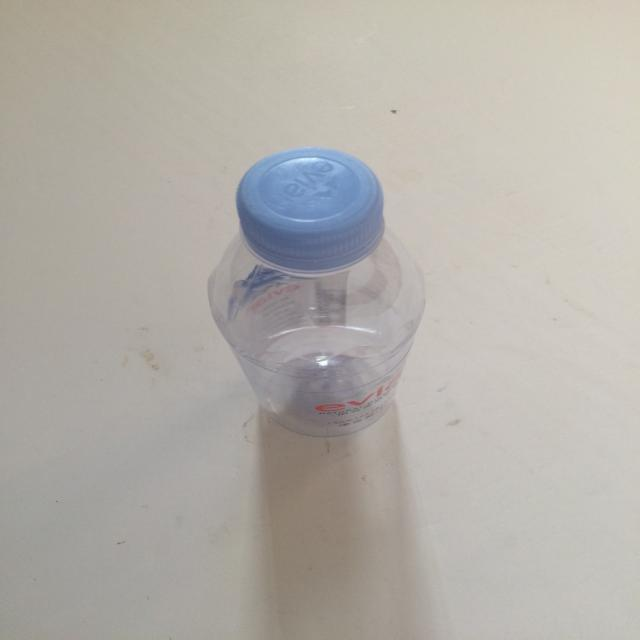plastic: (198, 137, 440, 446)
